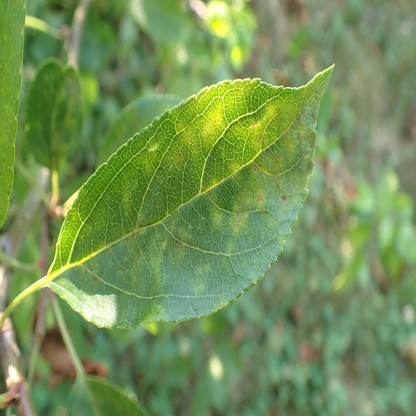scab: (36, 70, 81, 163), (271, 125, 314, 202), (242, 105, 276, 149), (129, 216, 145, 284), (202, 103, 223, 149), (296, 90, 320, 127), (167, 223, 186, 266), (231, 193, 251, 231), (151, 236, 166, 285), (206, 189, 222, 227), (123, 178, 138, 211), (189, 265, 209, 289), (142, 303, 166, 323), (80, 263, 98, 288), (179, 118, 195, 144), (252, 187, 267, 210), (215, 298, 230, 312), (250, 163, 263, 179), (231, 163, 242, 181), (223, 242, 232, 262), (115, 262, 126, 278)
